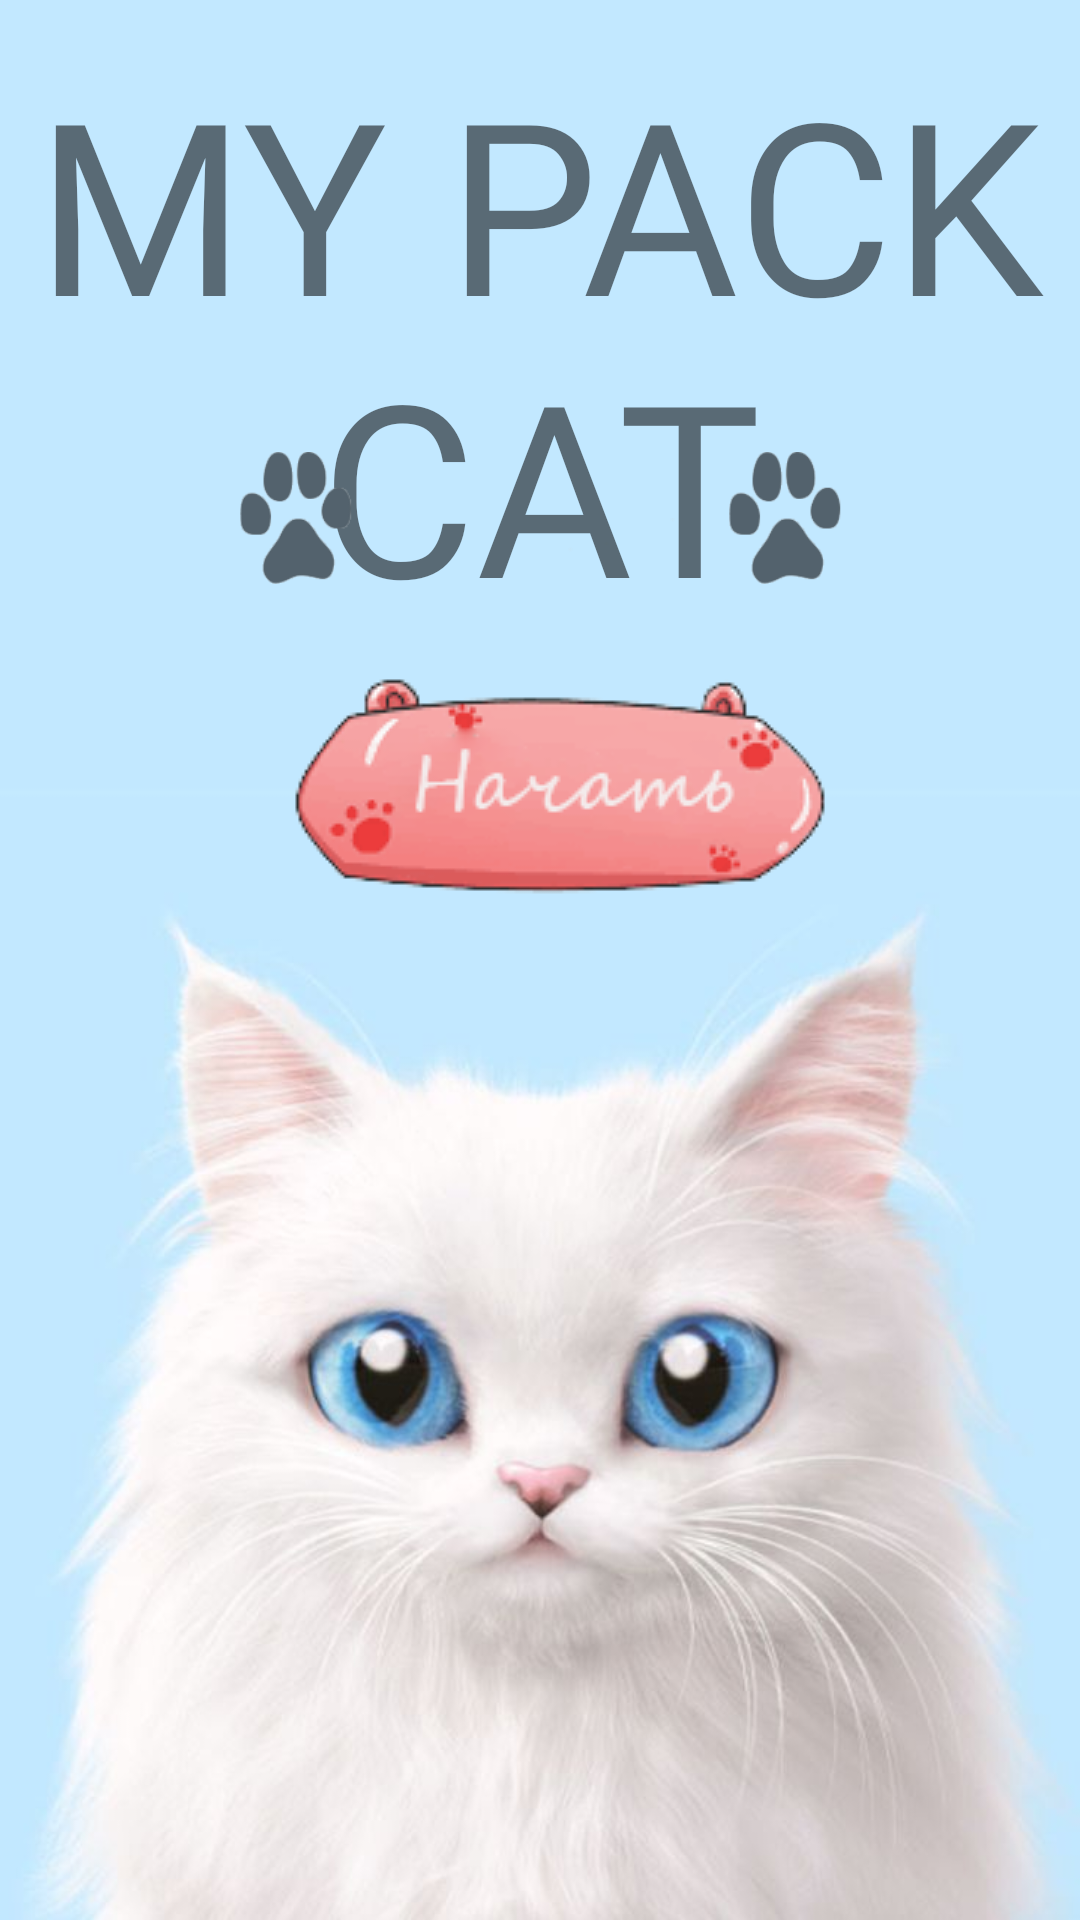

Where icons sit on this 1080*1920 app screen, as (x1, y1, x2, y2):
catlegs: (240, 452, 335, 584), (729, 452, 841, 584)
